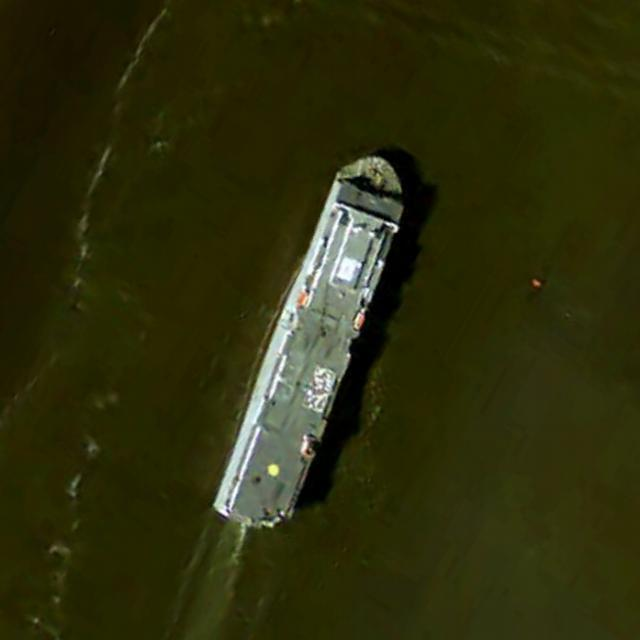RoRo: (207, 138, 423, 543)
